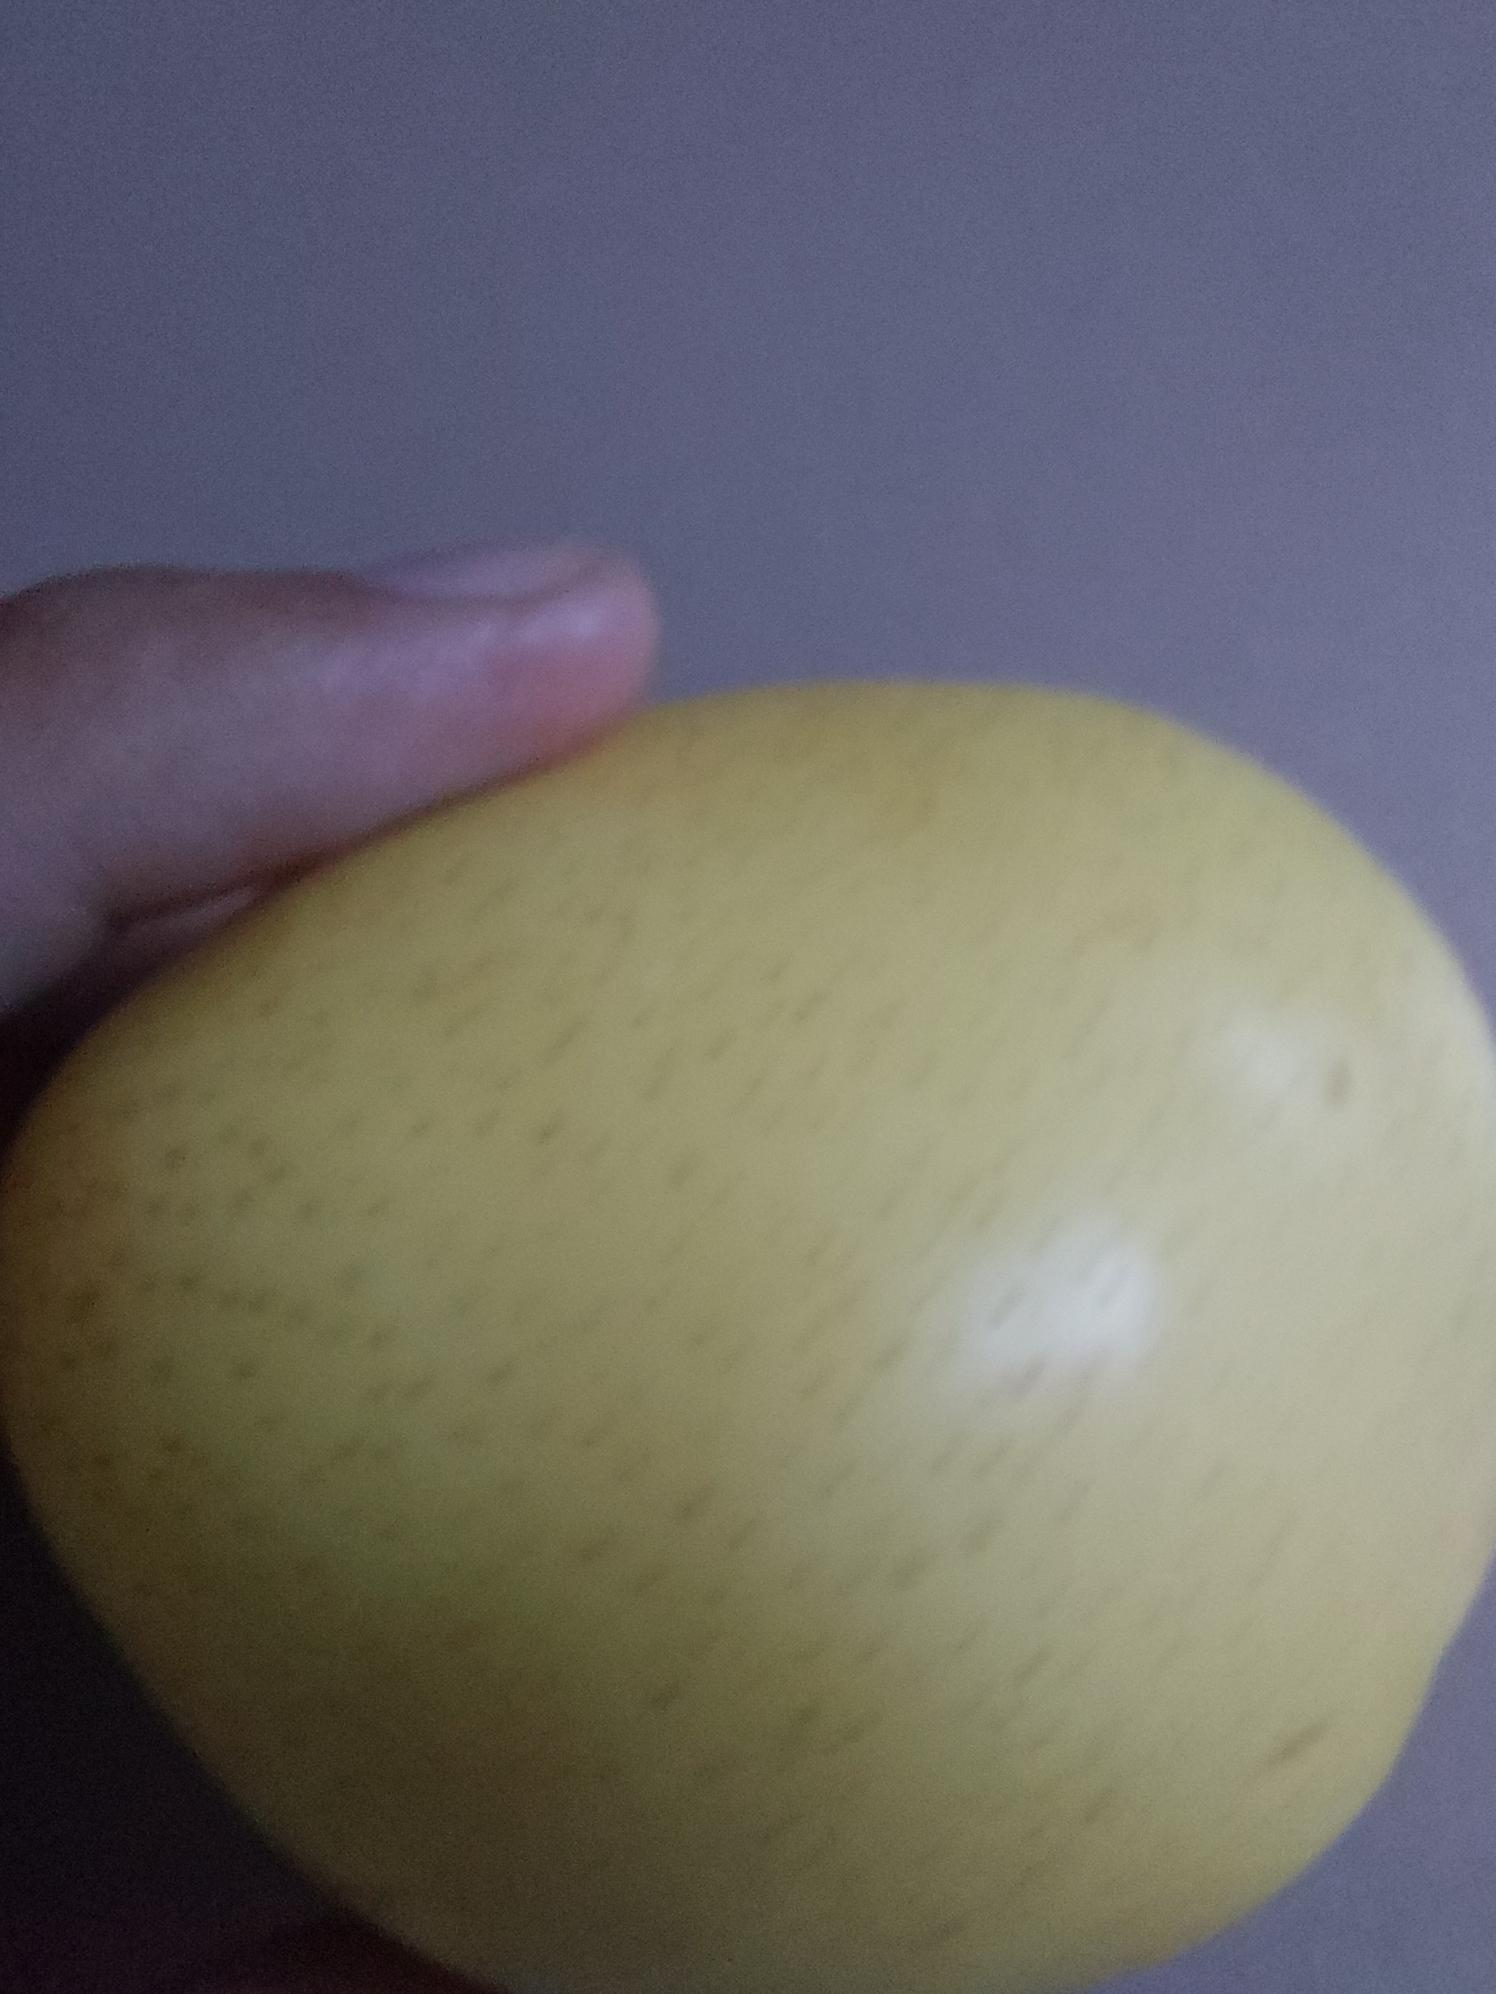Good Pear: (16, 677, 1496, 1989)
